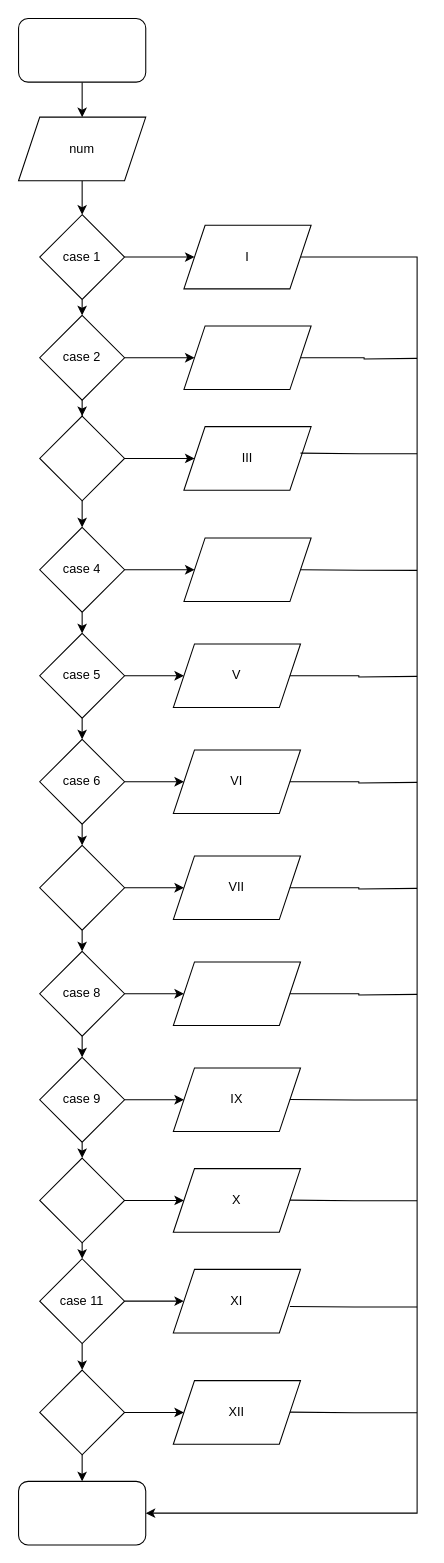
The diagram is 444 pixels wide and 1563 high, and some of its shapes have lost their labels. The box of each missing label's shape, as (x1, y1, x2, y2) in pixels:
case 10: (39, 1157, 125, 1243)
case 12: (39, 1369, 125, 1455)
case 3: (39, 415, 125, 501)
case 7: (39, 844, 125, 930)
II: (183, 325, 311, 390)
IV: (183, 537, 311, 602)
VIII: (172, 961, 301, 1026)
Конец: (17, 1480, 146, 1545)
Начало: (17, 17, 146, 82)
